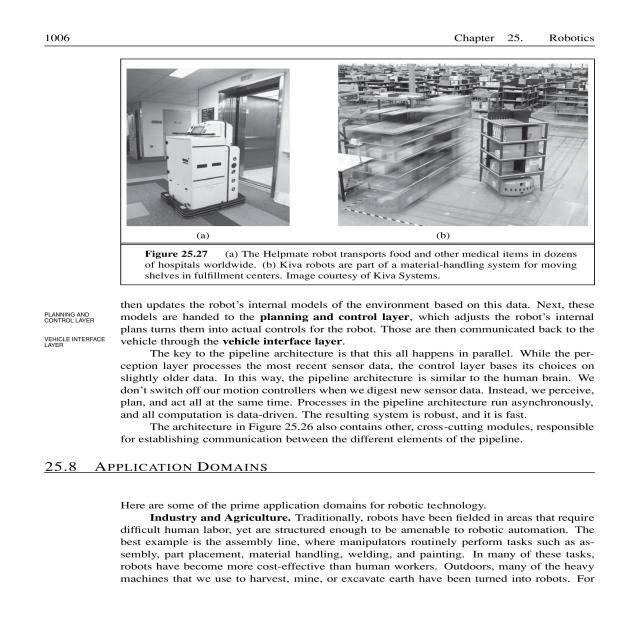diagram: (96, 58, 640, 288)
